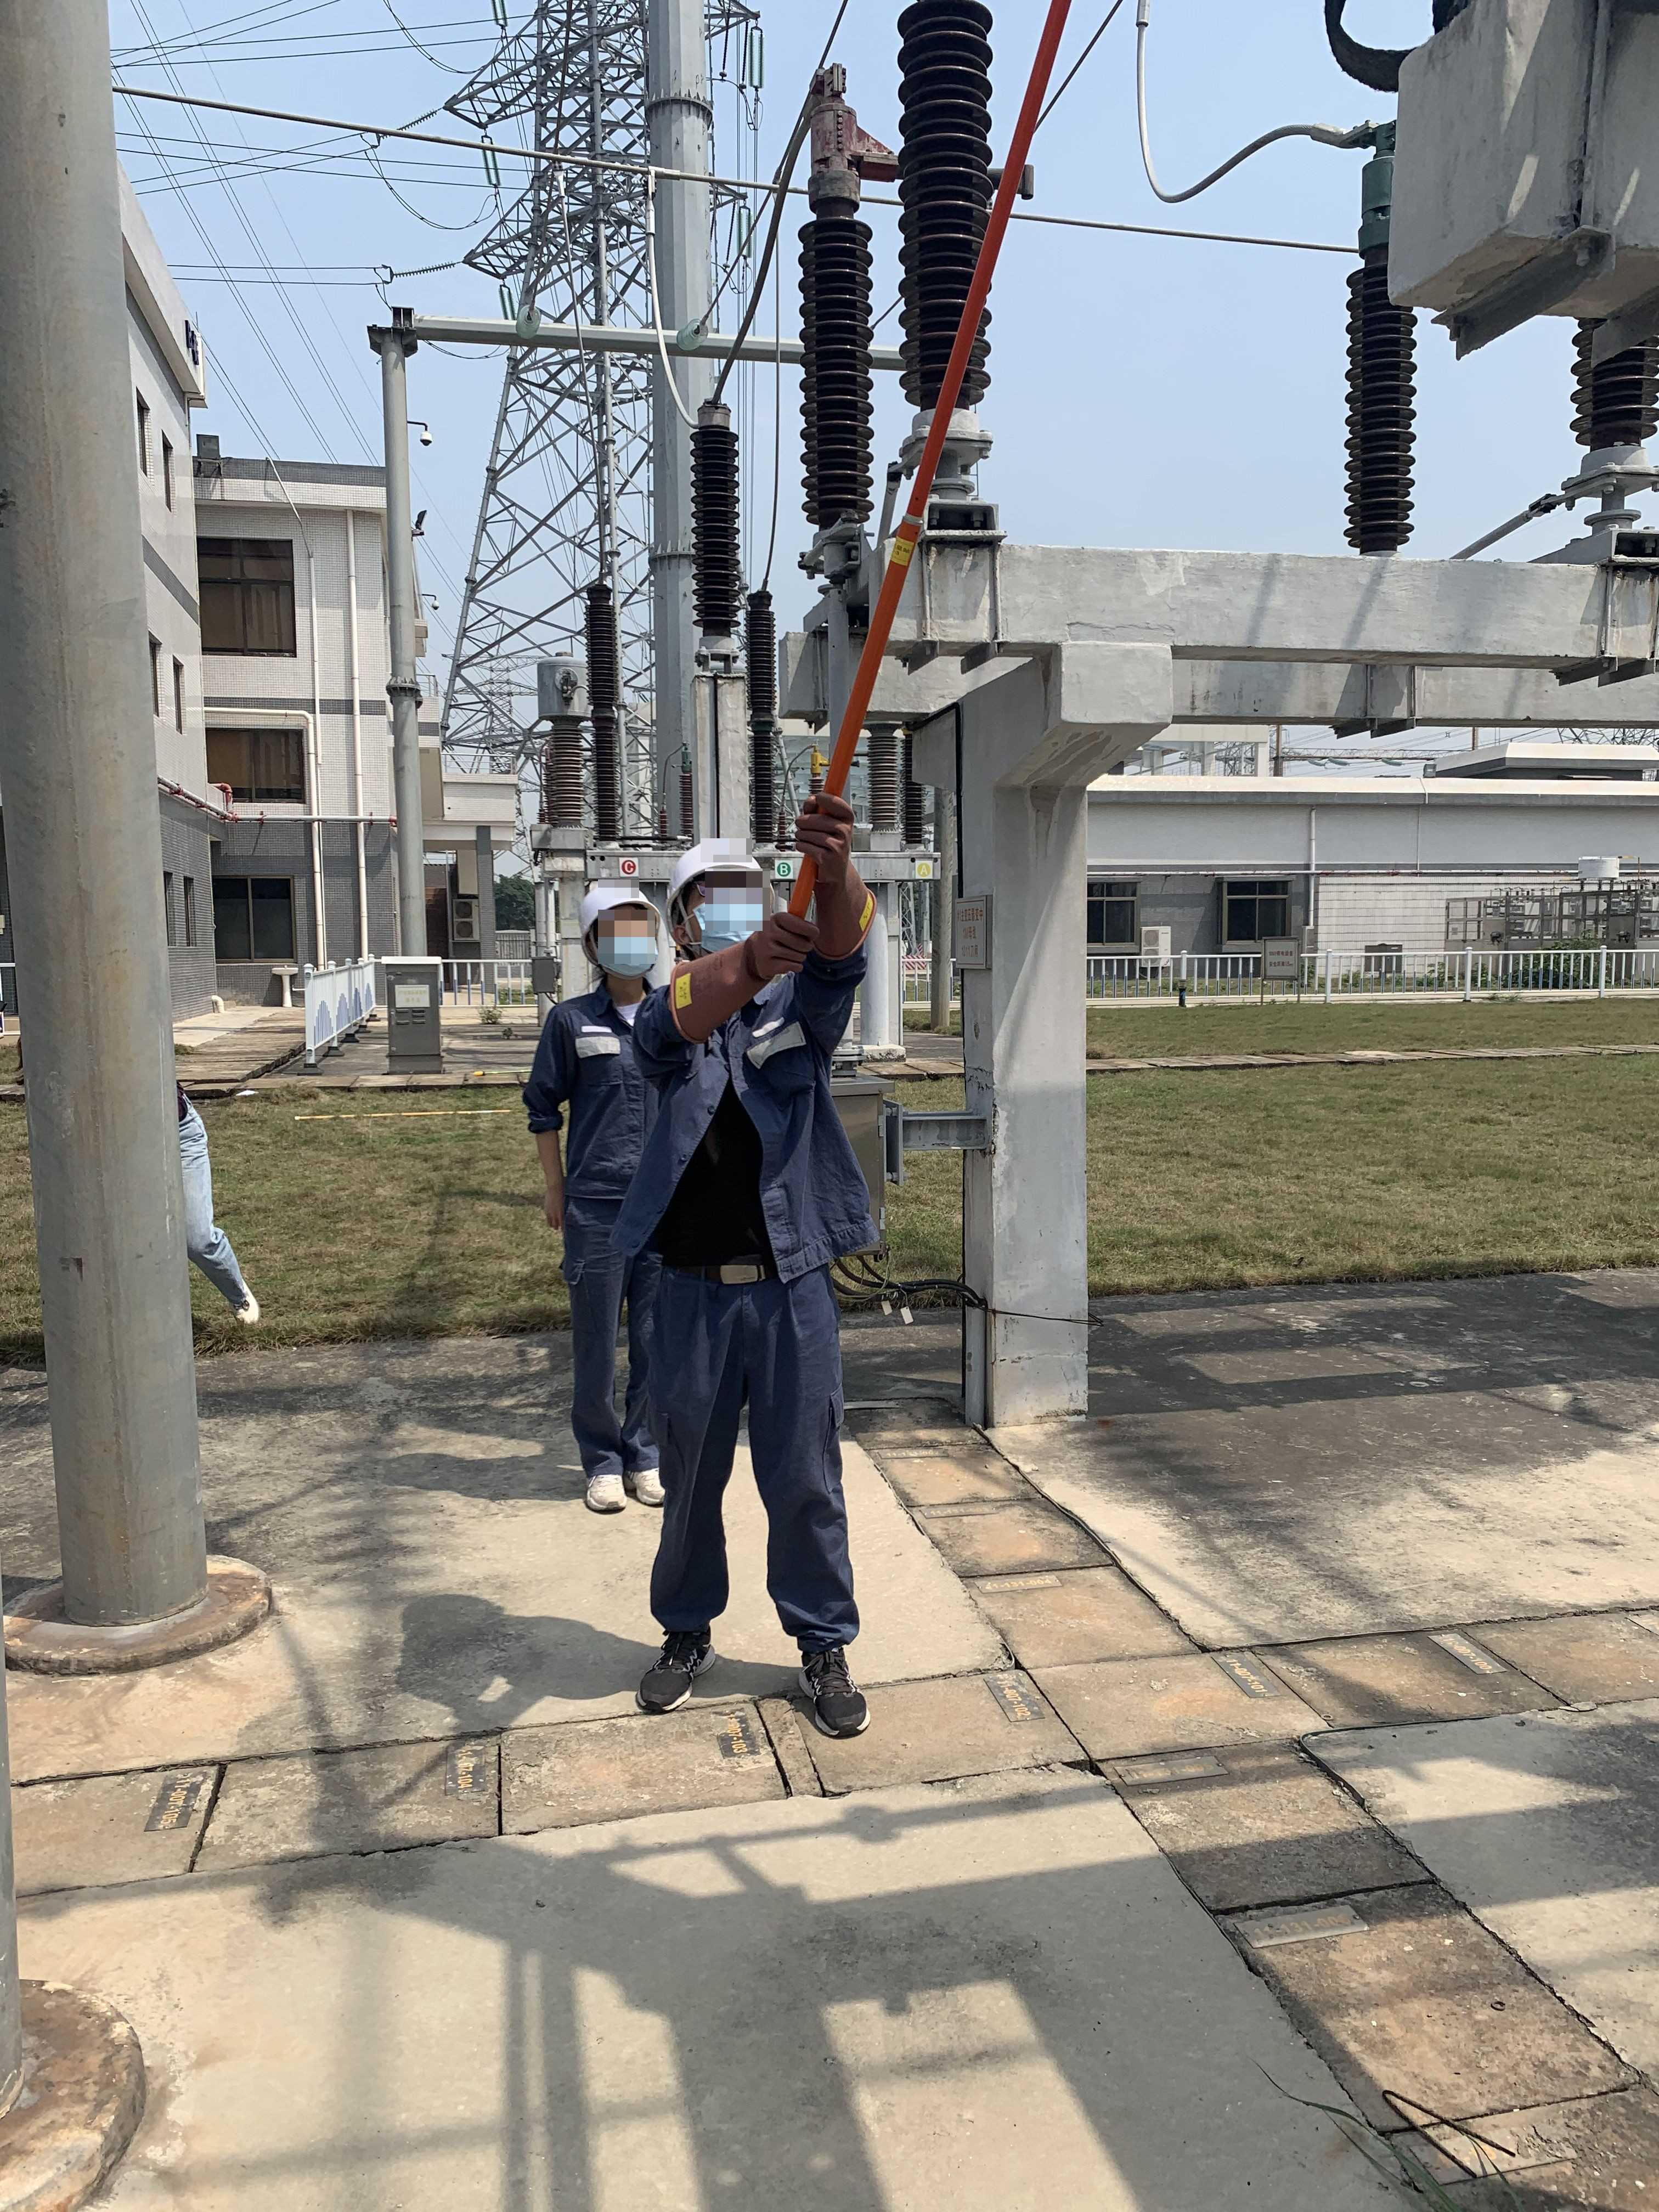downsuit: (640, 1291, 868, 1644), (559, 1264, 636, 1472)
upsuit: (627, 970, 887, 1261), (523, 989, 640, 1202)
wrongsuit: (640, 1052, 812, 1284)
wrongtop: (528, 1116, 566, 1230)
